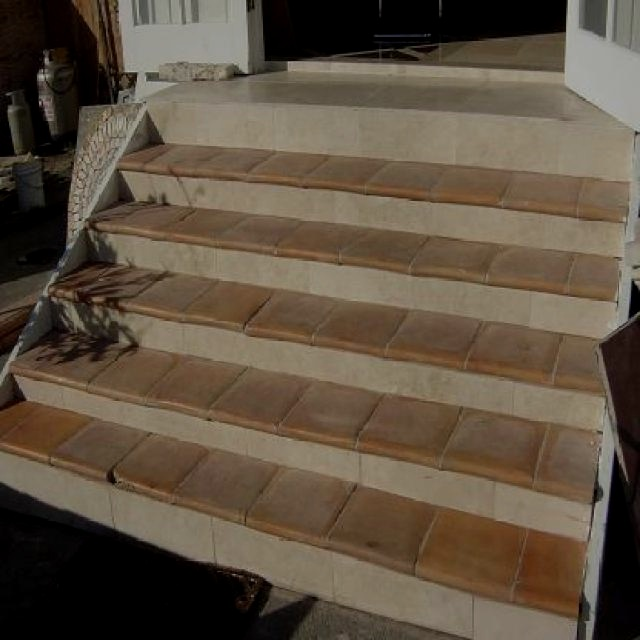stair: (0, 95, 634, 640)
